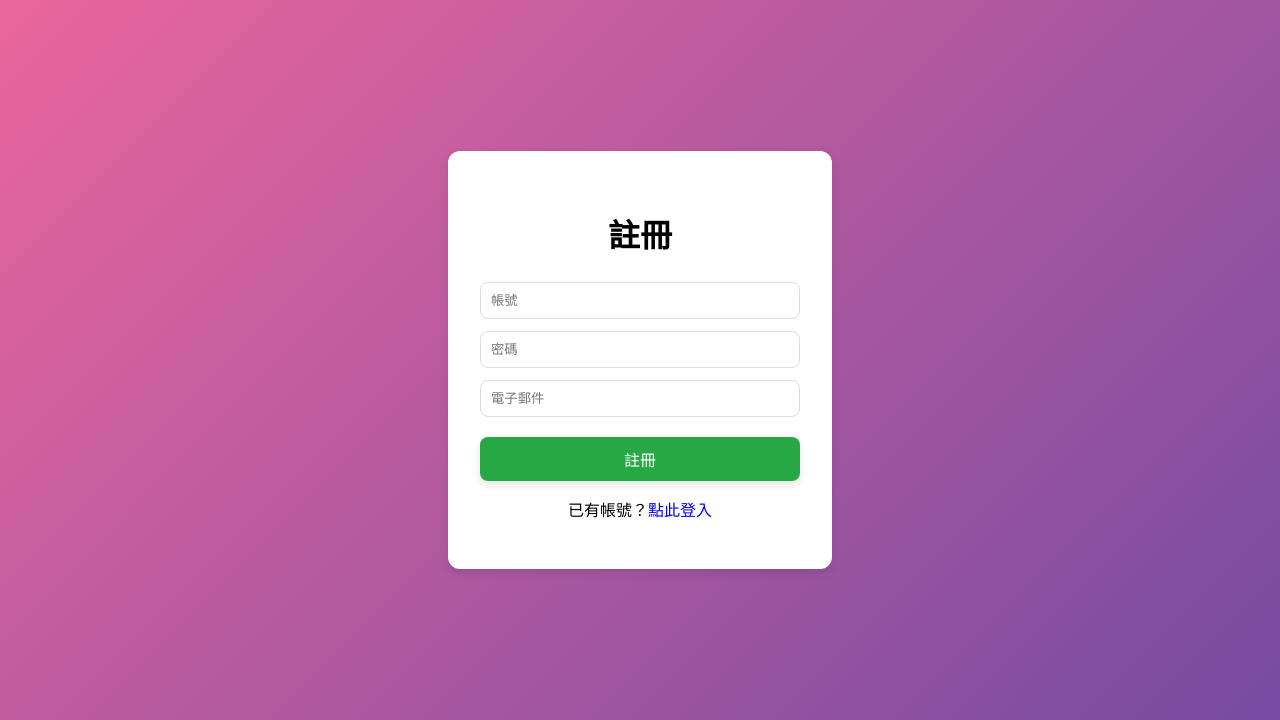
Test: Register.vue › 顯示錯誤訊息當帳號或密碼為空
This screenshot has width=1280, height=720.
Click the button "註冊": (640, 459) [480, 437, 800, 481]
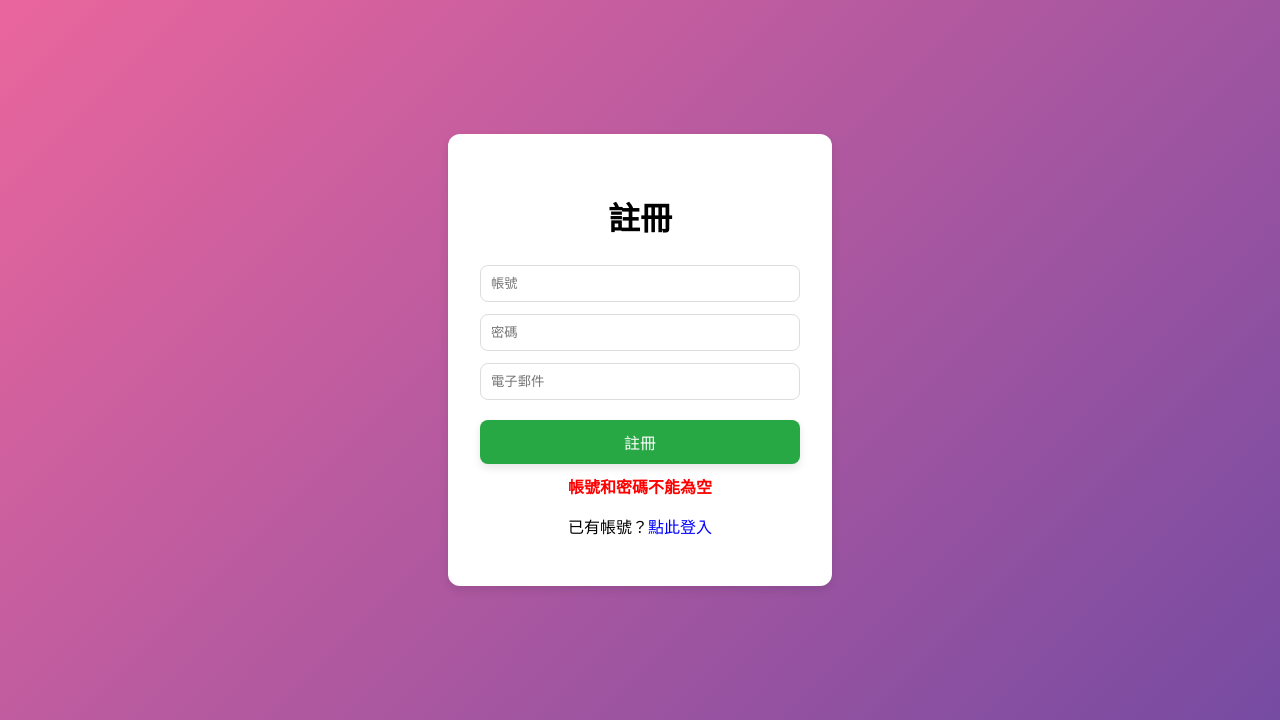
Now the text "帳號和密碼不能為空" is shown, box [568, 479, 712, 496]
